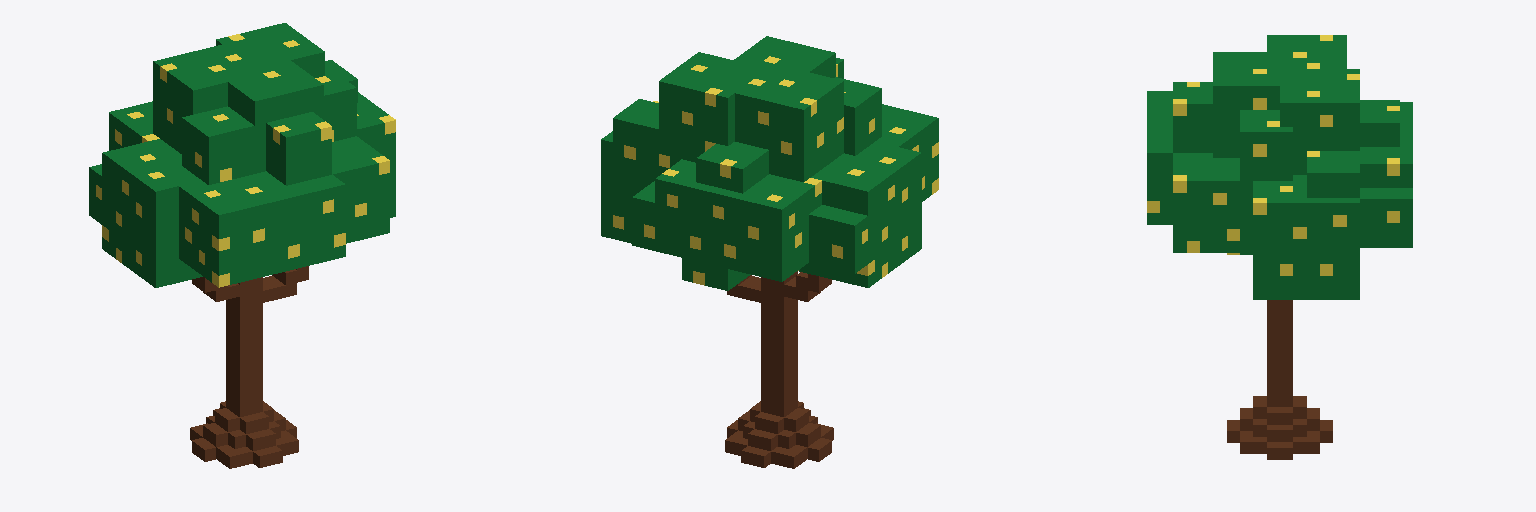
3 views of the same model, side by side, from view 1: azimuth 30°, elevation 25°; view 2: azimuth 150°, elevation 25°; view 3: azimuth 270°, elevation 25° (orthographic).
Parts seen in each view (by area): view 1: object 1; view 2: object 1; view 3: object 1.
Boxes of the visible parts, x1=… form: object 1: x1=89, y1=23, x2=395, y2=468; object 1: x1=601, y1=36, x2=938, y2=468; object 1: x1=1147, y1=35, x2=1412, y2=459.
Size of the model in its own units: 2.2 by 3.1 by 2.
Materials: 1 (1 with a texture image).